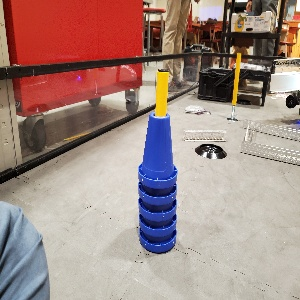Blue_5: (137, 112, 177, 252)
